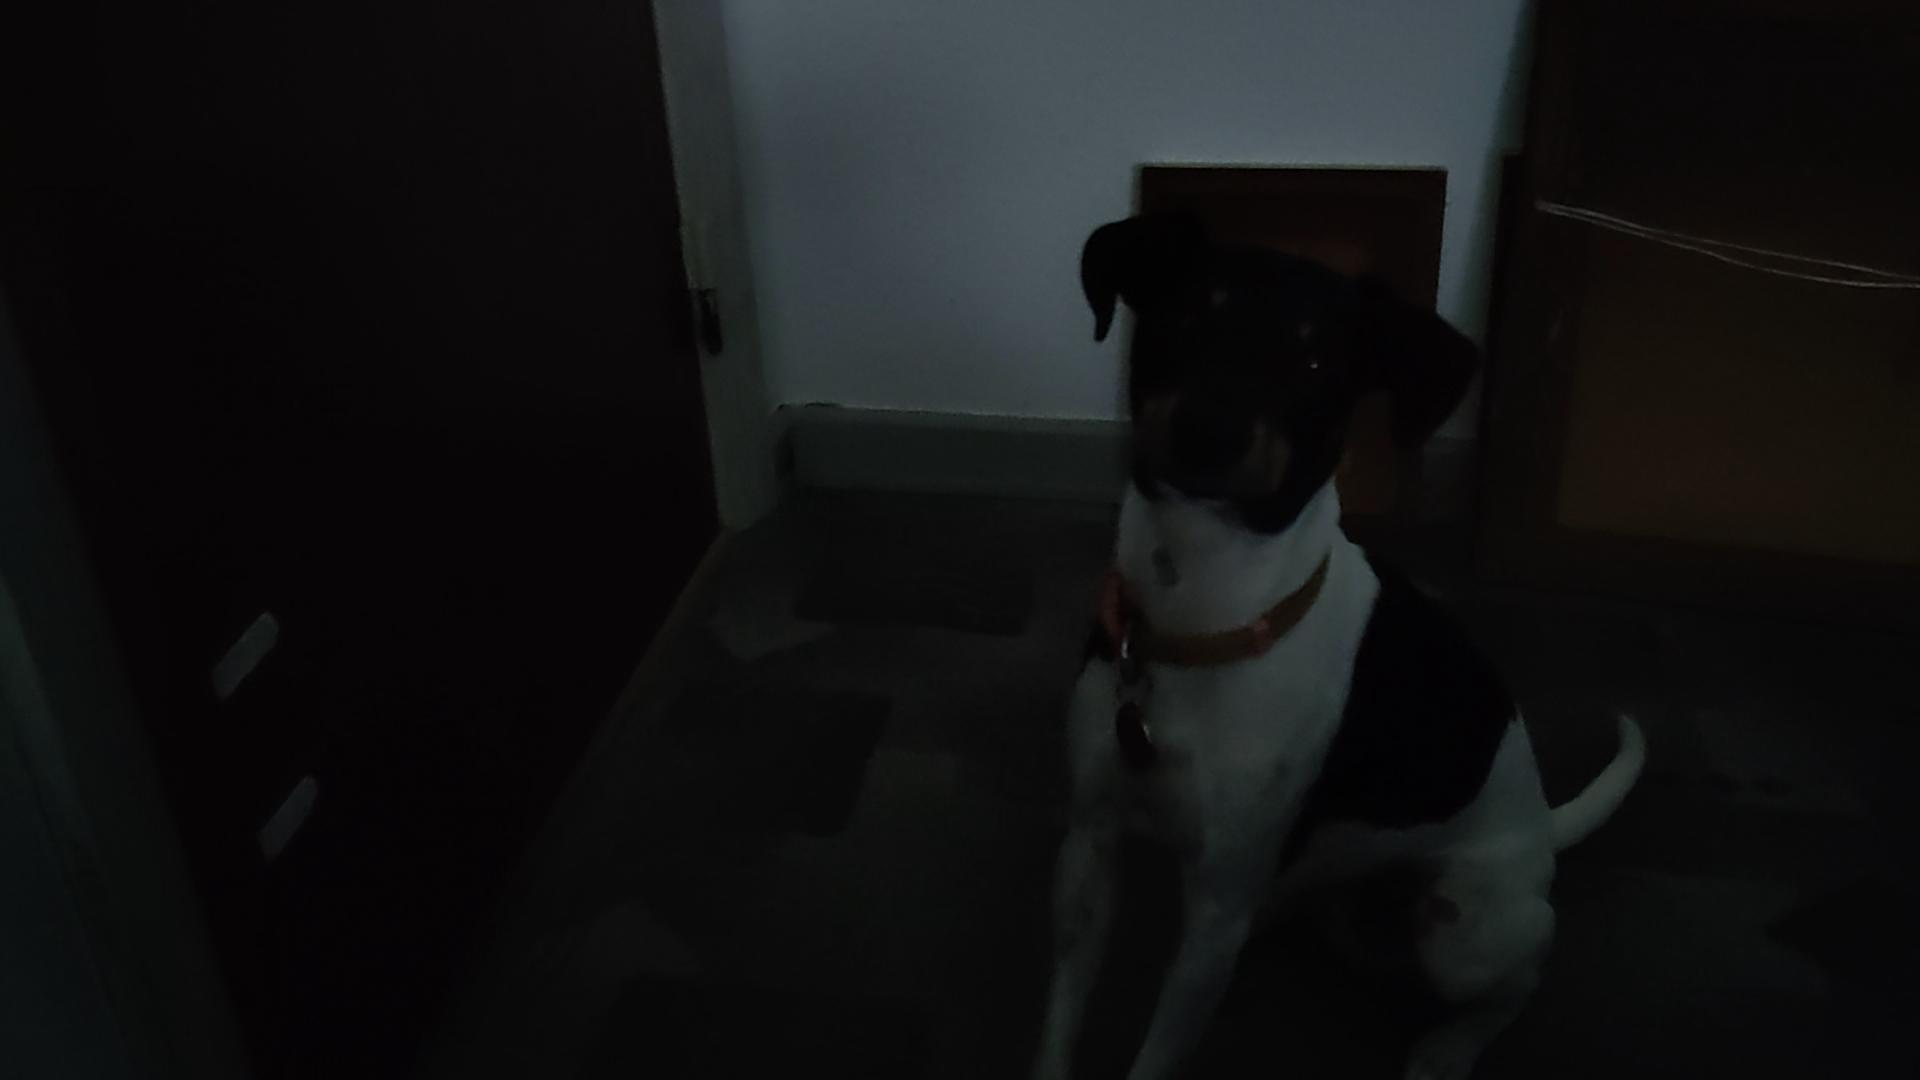Dog: (969, 187, 1663, 1079)
